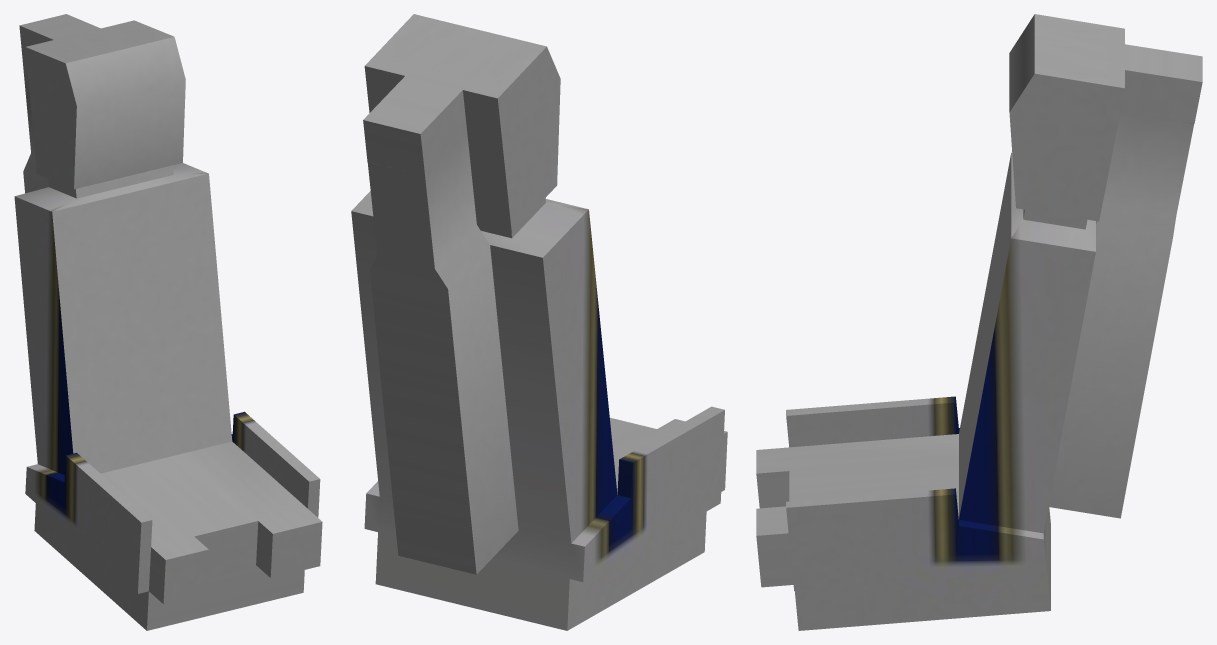
The model's file is PilotSeat.fbx.
3 renders of one model, left to right at view 1: azimuth 30°, elevation 25°; view 2: azimuth 150°, elevation 25°; view 3: azimuth 270°, elevation 25°, orthographic. The views are drawn at different scales.
Visible parts, largest first — view 1: SeatFront; view 2: SeatFront; view 3: SeatFront.
Boxes of the visible parts, <box> form: SeatFront: <box>14,14,322,630</box>; SeatFront: <box>351,14,727,630</box>; SeatFront: <box>756,14,1202,630</box>.
Size of the model in its own units: 48.61 by 126 by 93.55.
